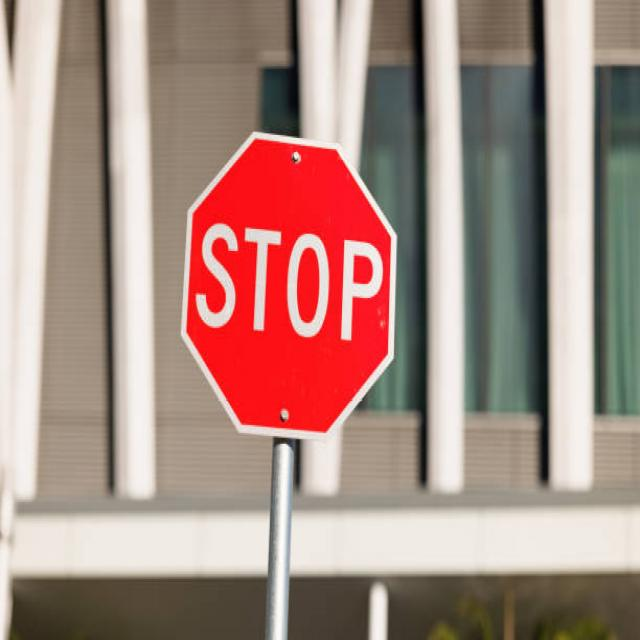stop: (175, 128, 402, 440)
